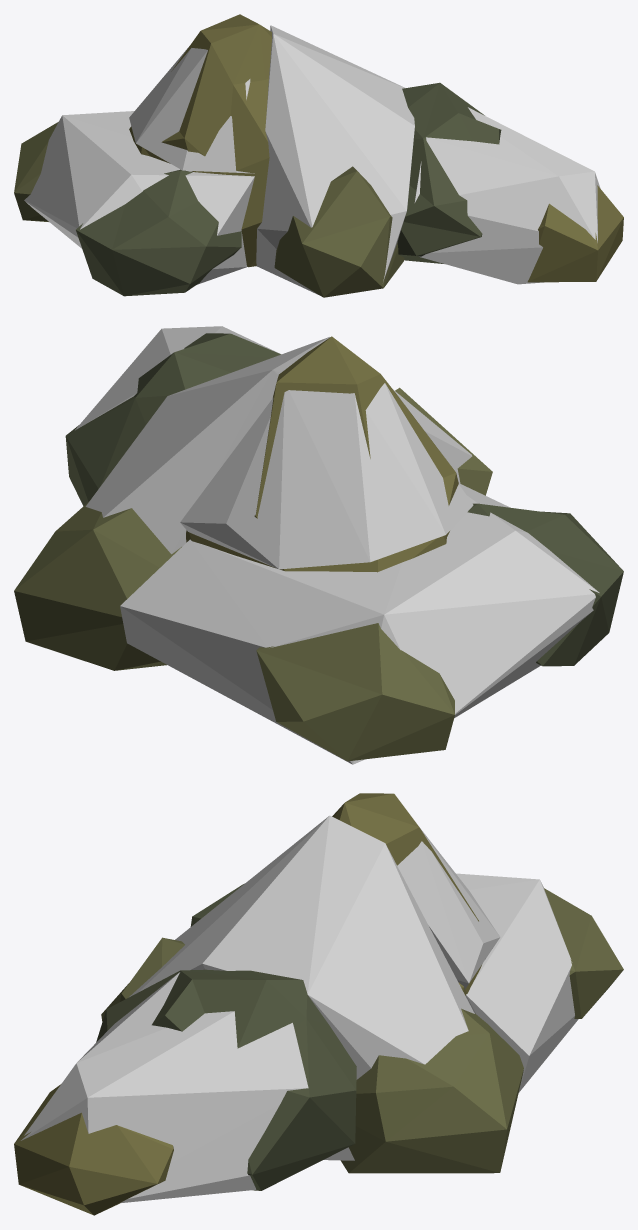
File: SM_Env_Bushes_02.fbx
The picture shows the model from 3 angles, top to bottom: view 1: azimuth 30°, elevation 25°; view 2: azimuth 150°, elevation 25°; view 3: azimuth 270°, elevation 25°; orthographic projection. The views are drawn at different scales.
Parts seen in each view (by area): view 1: SM_Env_Bushes_02_ConvexHulls, SM_Env_Bushes_02; view 2: SM_Env_Bushes_02_ConvexHulls, SM_Env_Bushes_02; view 3: SM_Env_Bushes_02_ConvexHulls, SM_Env_Bushes_02.
Part boxes in pixels (bbox=[...]): SM_Env_Bushes_02_ConvexHulls: bbox=[24, 25, 600, 295]; SM_Env_Bushes_02: bbox=[14, 14, 623, 297]; SM_Env_Bushes_02_ConvexHulls: bbox=[75, 326, 599, 764]; SM_Env_Bushes_02: bbox=[14, 333, 623, 761]; SM_Env_Bushes_02_ConvexHulls: bbox=[21, 815, 578, 1203]; SM_Env_Bushes_02: bbox=[14, 793, 623, 1215].
Bounding box in the file's own units: 535 × 511 × 276.
2 materials, 1 textured.
